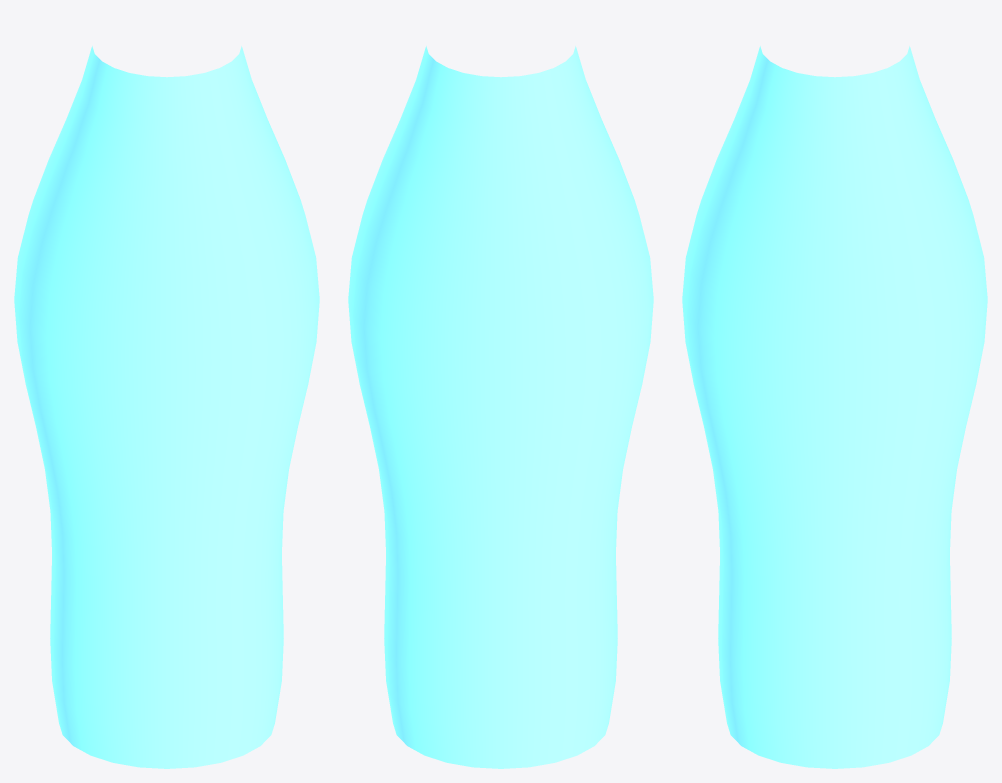
File: HERMES_ARGON_avatar_v1_LOD0_anim.glb
The picture shows the model from 3 angles, left to right: view 1: azimuth 30°, elevation 25°; view 2: azimuth 150°, elevation 25°; view 3: azimuth 270°, elevation 25°; orthographic projection.
Visible parts, largest first — view 1: Root_Pelvis; view 2: Root_Pelvis; view 3: Root_Pelvis.
Boxes of the visible parts, left/top/right/bottom form: Root_Pelvis: left=14, top=46, right=319, bottom=768; Root_Pelvis: left=348, top=46, right=653, bottom=768; Root_Pelvis: left=682, top=46, right=987, bottom=768.
Bounding box in the file's own units: 0.7356 × 1.8 × 0.7356.
